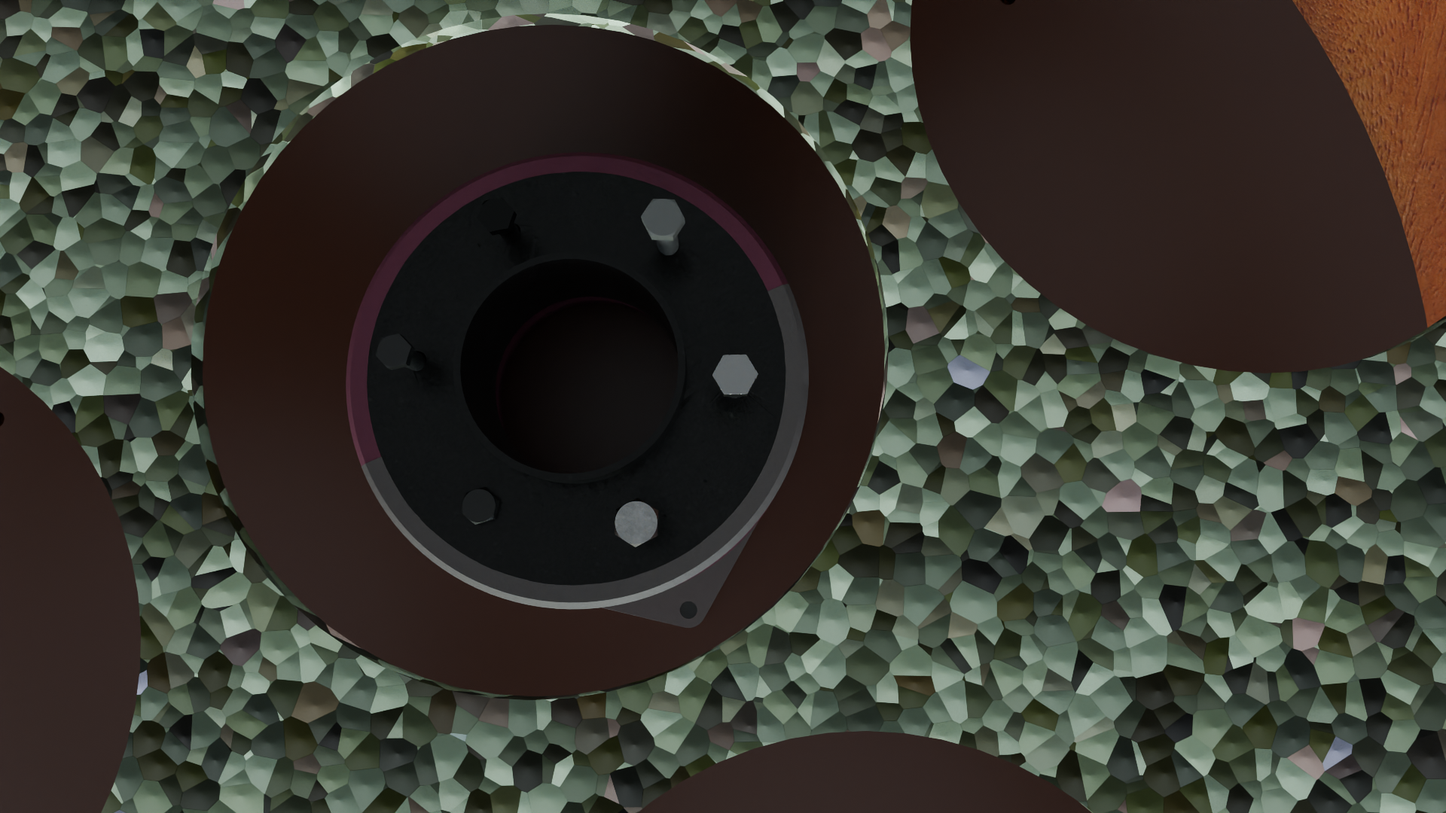bolt: (615, 498, 658, 547), (712, 355, 758, 394), (641, 199, 685, 236), (461, 487, 498, 525), (477, 197, 514, 232), (376, 333, 411, 368)
